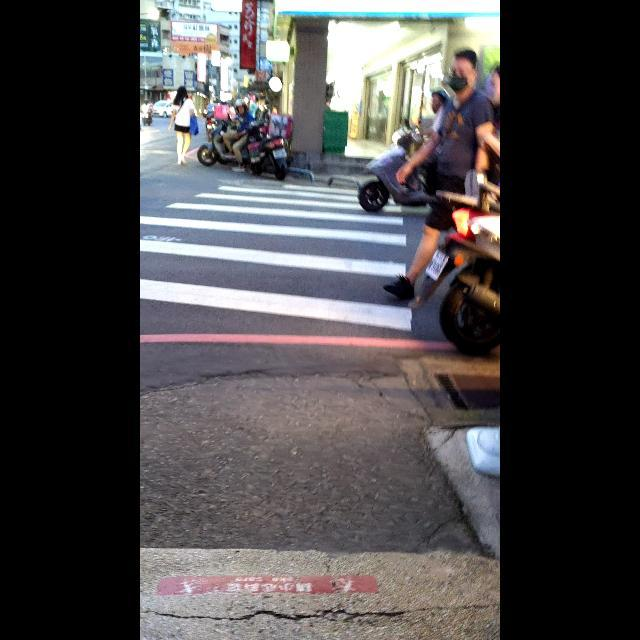sidewalk: (140, 178, 412, 336)
